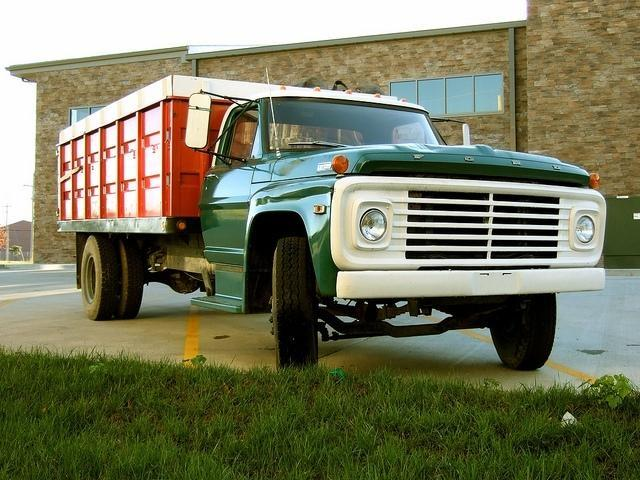truck: (61, 72, 608, 372)
